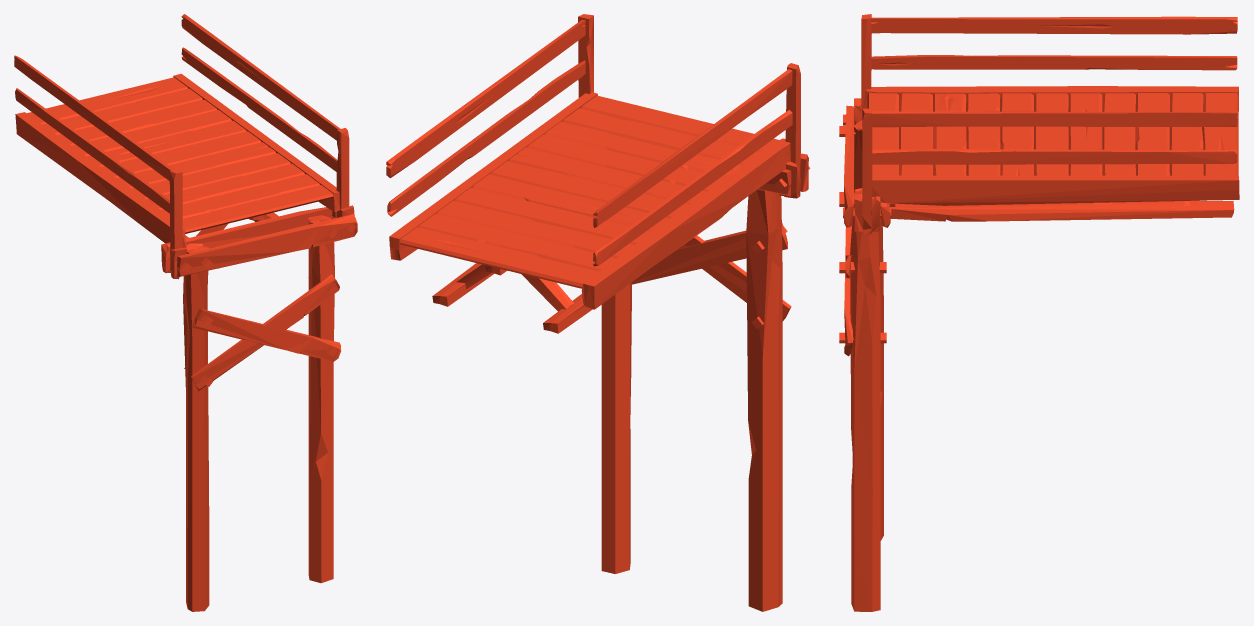
The model's file is SM_Pier_Long_Railing_A_City.fbx.
3 renders of one model, left to right at view 1: azimuth 30°, elevation 25°; view 2: azimuth 150°, elevation 25°; view 3: azimuth 270°, elevation 25°, orthographic. The views are drawn at different scales.
Parts seen in each view (by area): view 1: SM_Pier_Long_Railing_A_City; view 2: SM_Pier_Long_Railing_A_City; view 3: SM_Pier_Long_Railing_A_City.
Part boxes in pixels (x1=…): SM_Pier_Long_Railing_A_City: x1=14, y1=14, x2=357, y2=611; SM_Pier_Long_Railing_A_City: x1=386, y1=14, x2=810, y2=611; SM_Pier_Long_Railing_A_City: x1=839, y1=14, x2=1239, y2=611.
Bounding box in the file's own units: 3.31 × 7.57 × 5.39.
